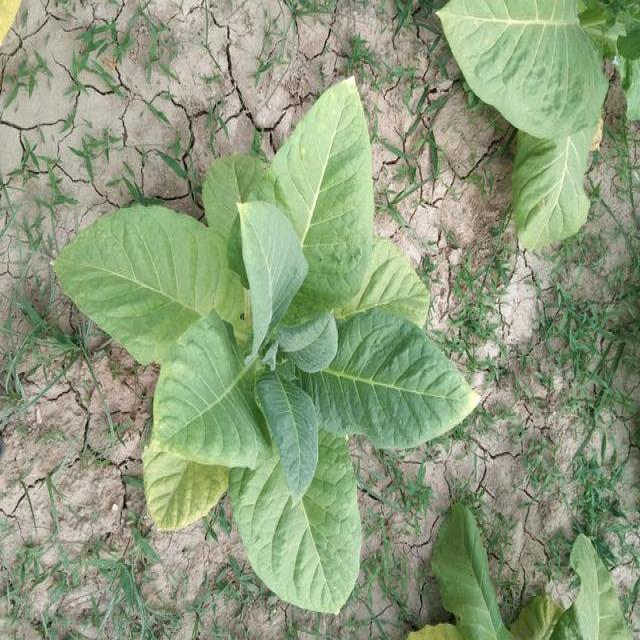crop: (68, 95, 478, 597), (432, 0, 640, 243), (429, 487, 640, 640)
